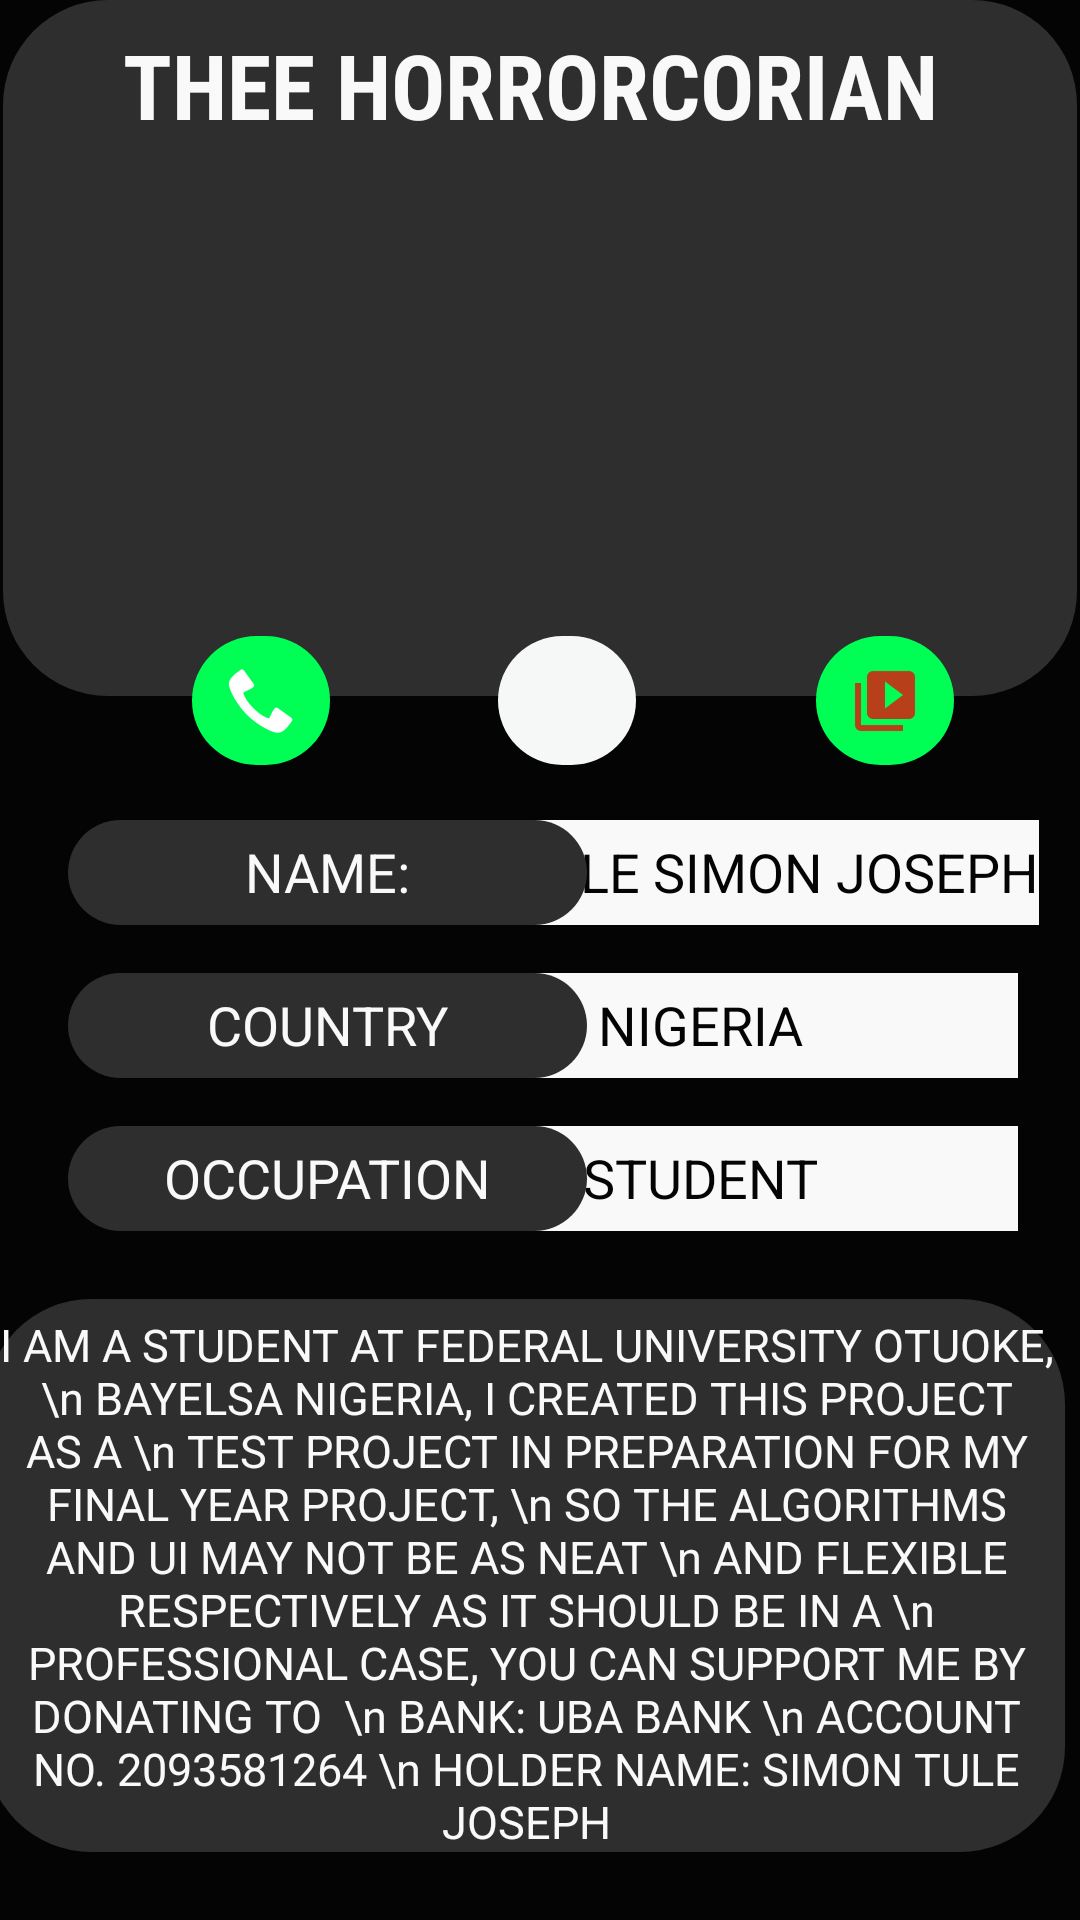

Icons on this 1080w x 1920h Android screen, each with the point to tap as (x=x, y=y):
phone call: (x=261, y=700)
